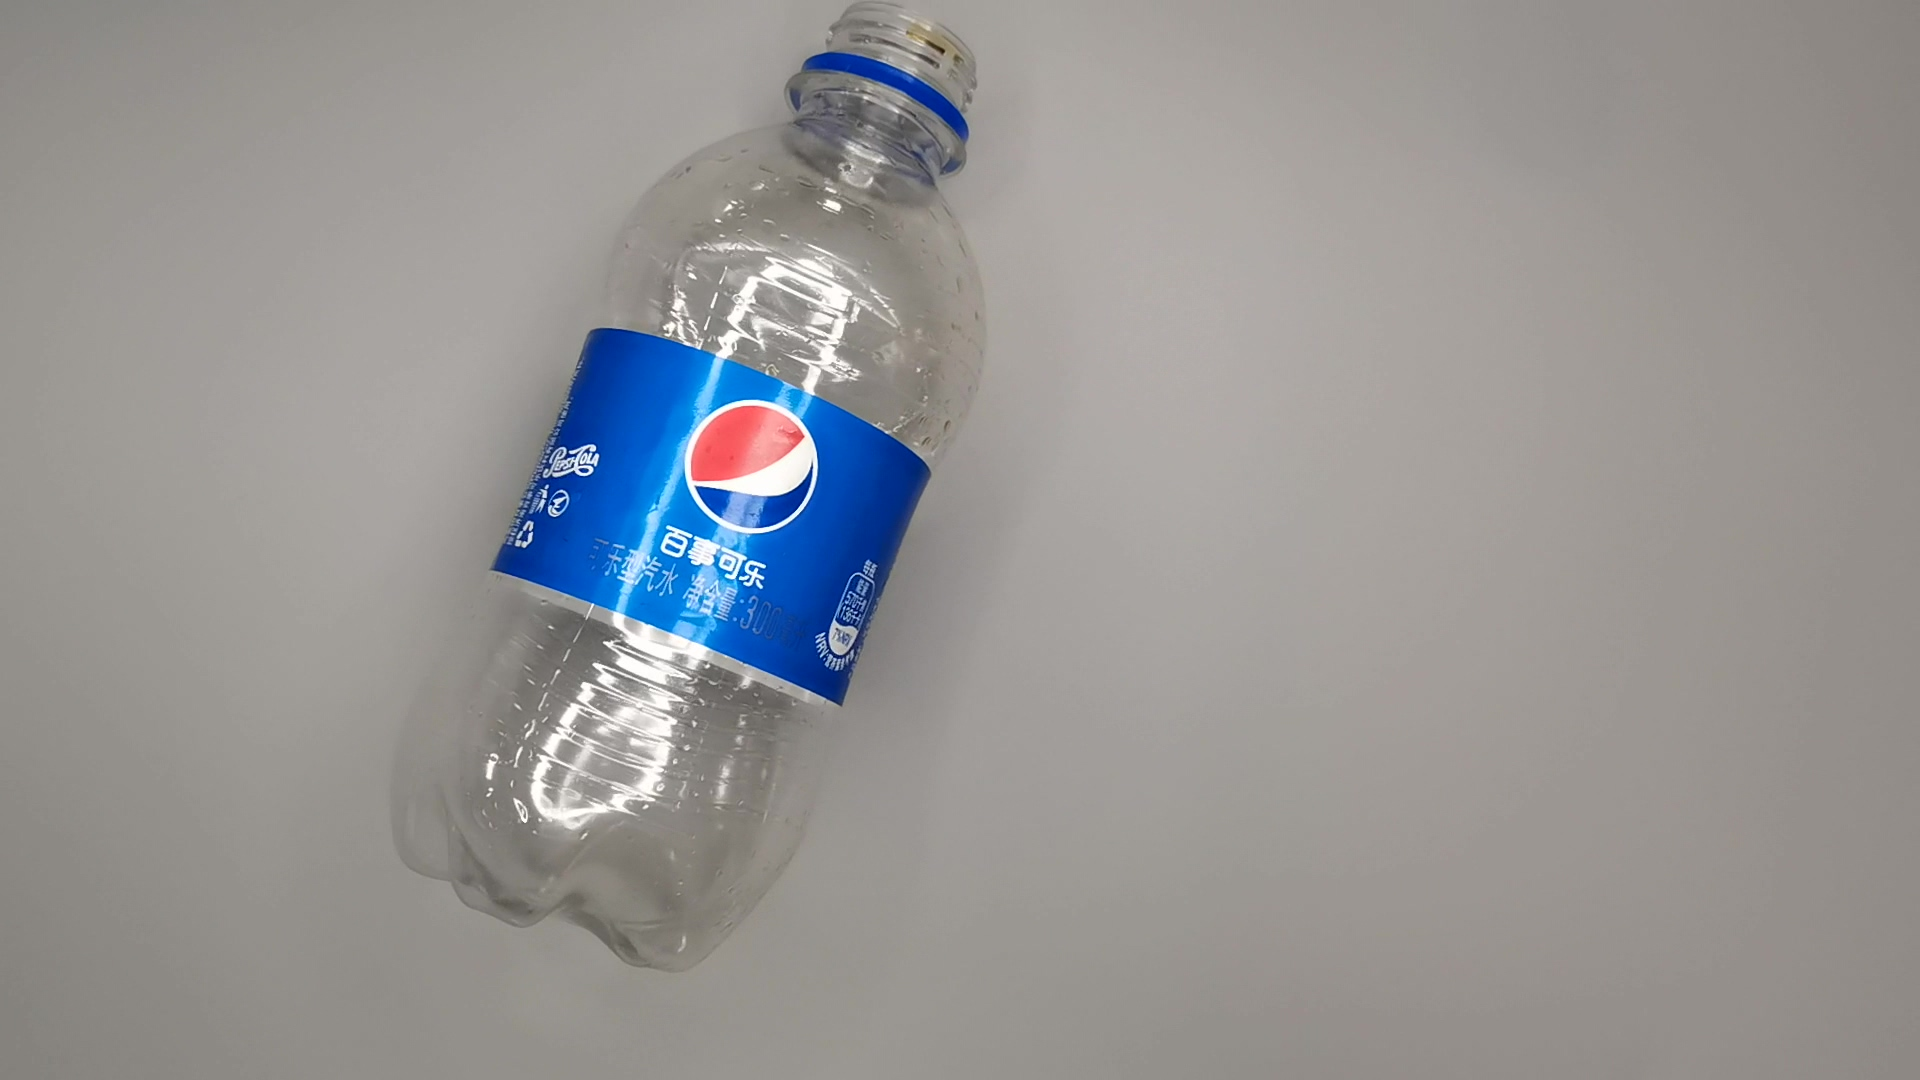bottle: (380, 1, 1009, 985)
